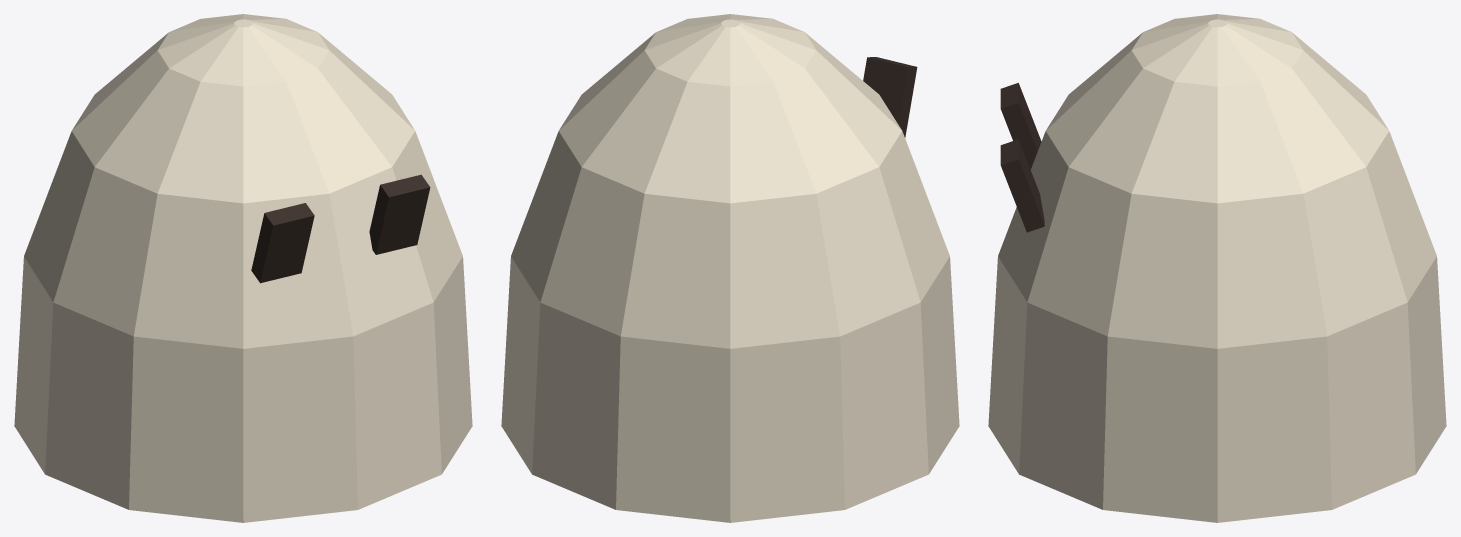
The model's file is Ghost.fbx.
3 renders of one model, left to right at view 1: azimuth 30°, elevation 25°; view 2: azimuth 150°, elevation 25°; view 3: azimuth 270°, elevation 25°, orthographic.
Parts seen in each view (by area): view 1: Ghost; view 2: Ghost; view 3: Ghost.
Part boxes in pixels (box(x1,y1,x2,y2)): Ghost: box(14, 14, 472, 522); Ghost: box(501, 14, 959, 522); Ghost: box(988, 14, 1446, 522).
Bounding box in the file's own units: 2.5 × 2.5 × 2.5.
